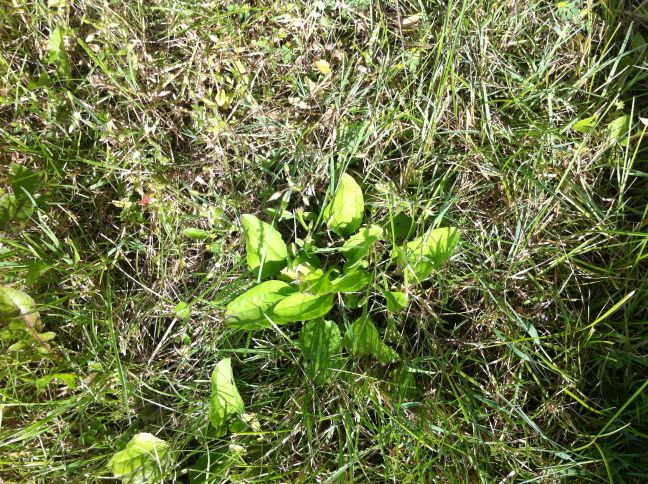weed1: (223, 169, 462, 369), (200, 353, 261, 440), (103, 429, 188, 484)
